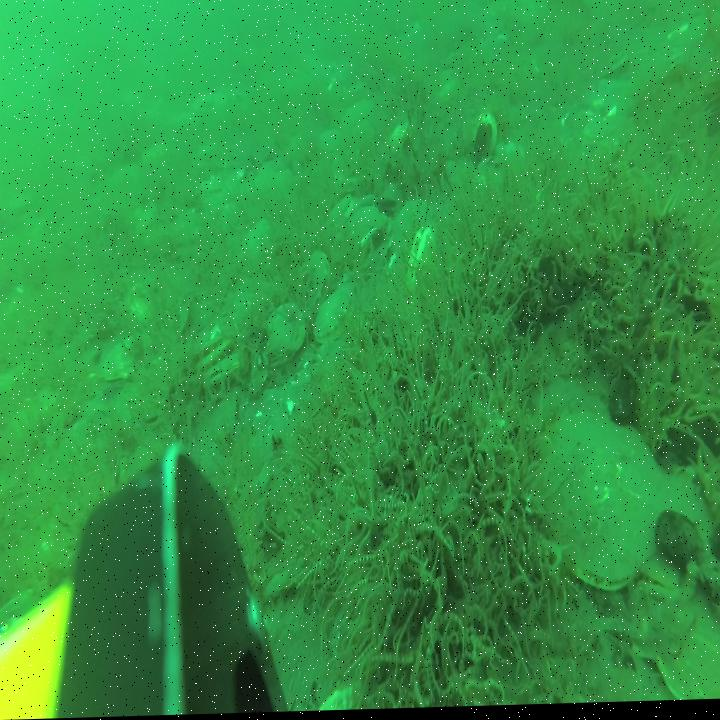scallop: (538, 407, 668, 598), (634, 468, 710, 595), (617, 559, 702, 665), (651, 591, 720, 705), (390, 196, 436, 265), (264, 299, 305, 366), (298, 249, 334, 317), (343, 207, 388, 261), (239, 222, 280, 281), (316, 289, 356, 348), (102, 336, 148, 386), (202, 353, 243, 400), (325, 192, 358, 237), (583, 112, 620, 151), (194, 337, 232, 373), (388, 121, 409, 164), (319, 129, 344, 162)
